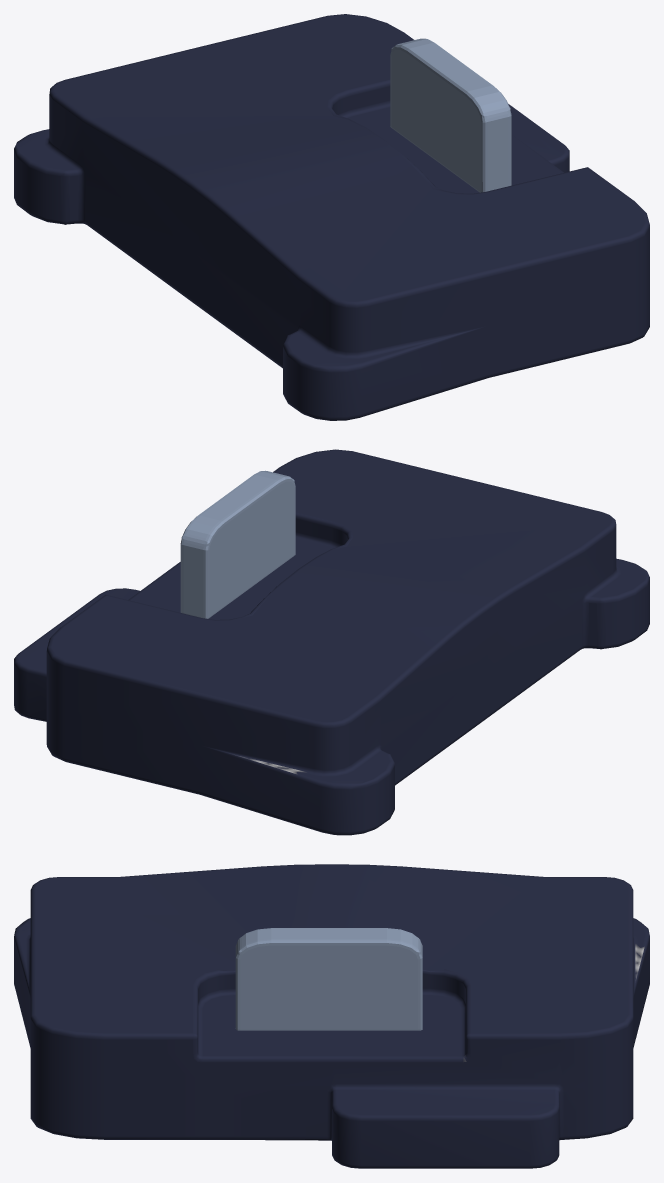
The picture shows the model from 3 angles, top to bottom: view 1: azimuth 30°, elevation 25°; view 2: azimuth 150°, elevation 25°; view 3: azimuth 270°, elevation 25°; orthographic projection. The views are drawn at different scales.
Visible parts, largest first — view 1: N64; view 2: N64; view 3: N64.
Boxes of the visible parts, <box> form: N64: <box>14,14,649,420</box>; N64: <box>14,449,649,835</box>; N64: <box>14,864,649,1168</box>.
Size of the model in its own units: 0.2711 by 0.1069 by 0.3575.
1 material, 1 textured.
